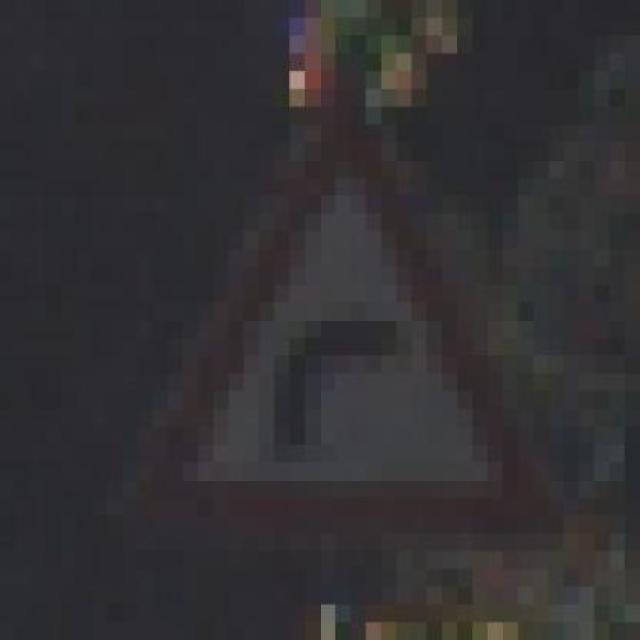Dangerous Rright Curve Ahead: (137, 53, 549, 552)
